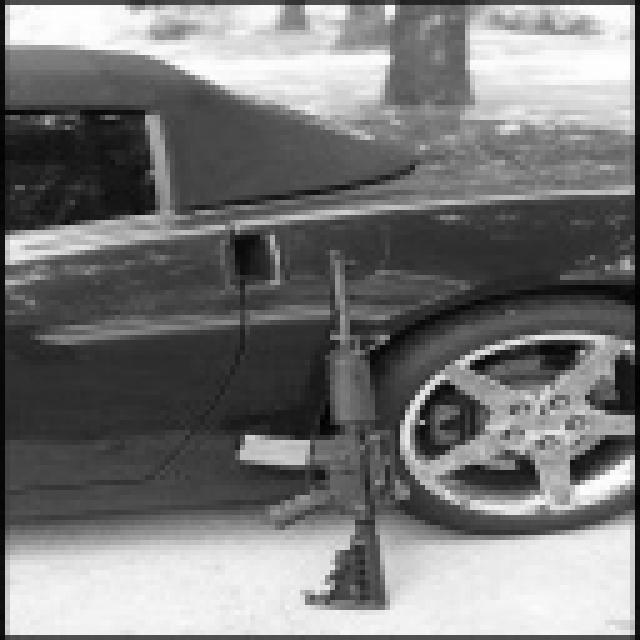Rifle: (218, 233, 449, 640)
